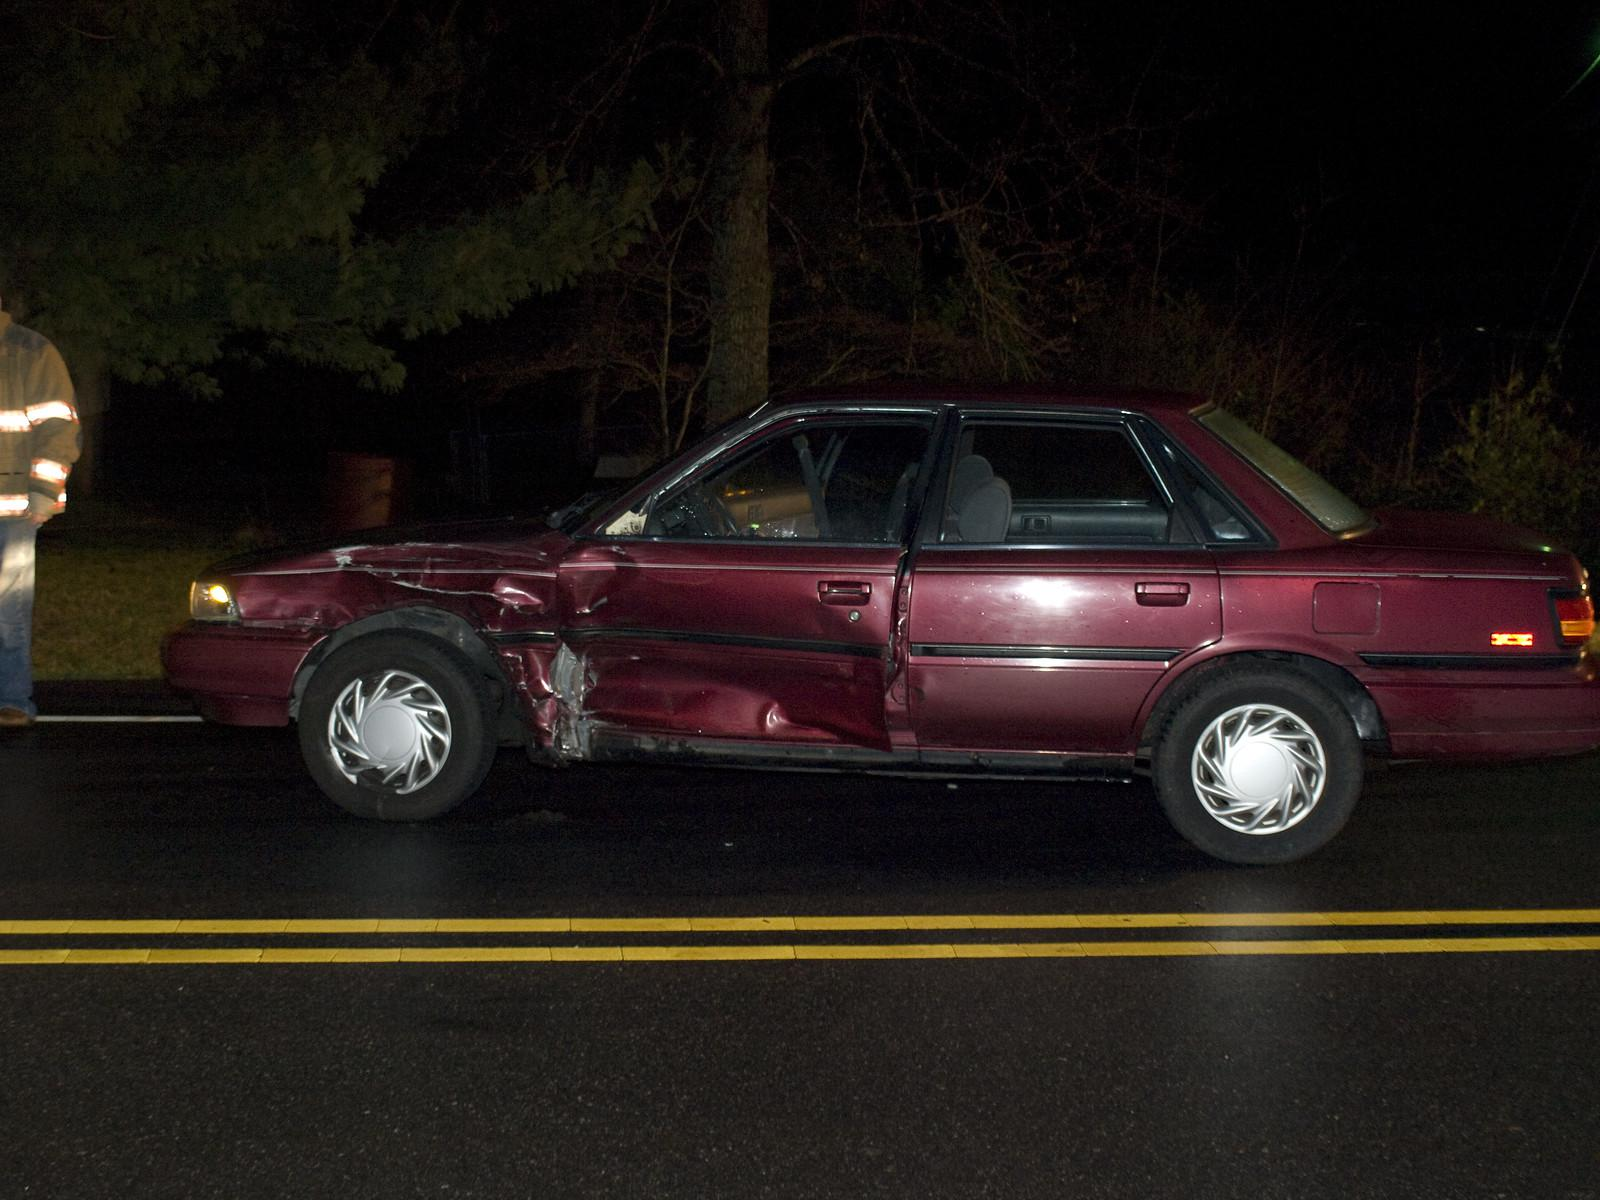doorouter-dent: (578, 543, 904, 776)
fender-dent: (275, 557, 564, 687)
